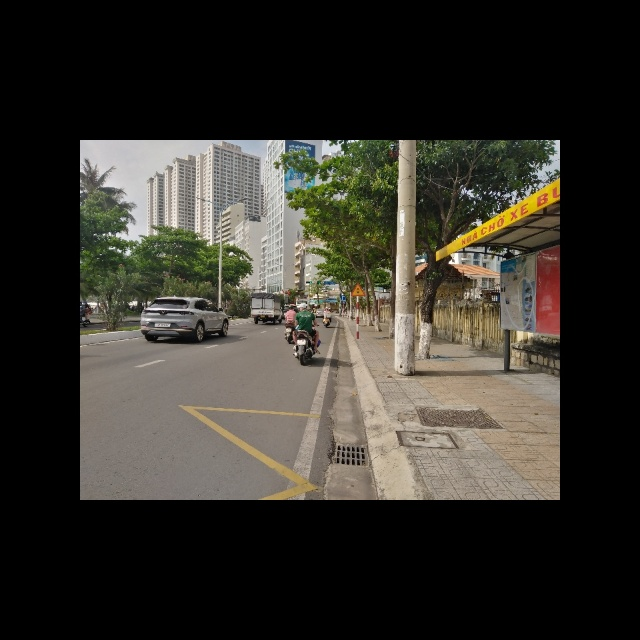Giao nhau có tín hiệu đèn: (351, 281, 367, 296)
